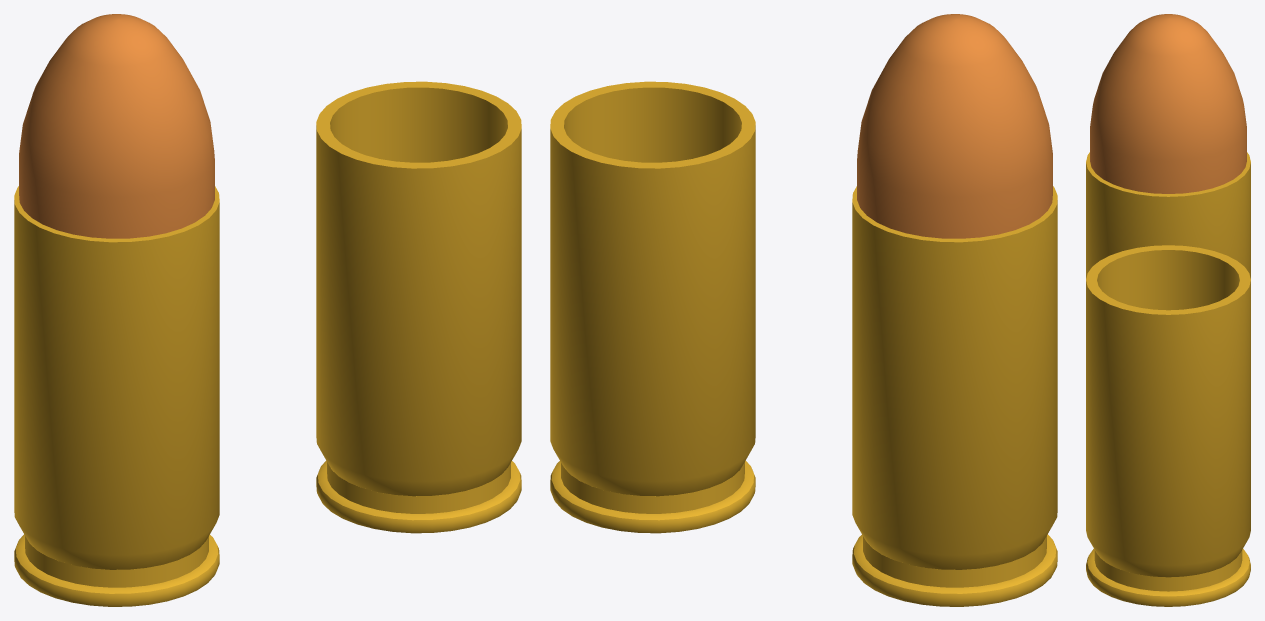
File: Bullet.fbx
3 renders of one model, left to right at view 1: azimuth 30°, elevation 25°; view 2: azimuth 150°, elevation 25°; view 3: azimuth 270°, elevation 25°, orthographic. The views are drawn at different scales.
Parts seen in each view (by area): view 1: Bullet, Case; view 2: Bullet, Case; view 3: Case, Bullet.
Part boxes in pixels (bbox=[...]): Bullet: bbox=[14, 14, 219, 606]; Case: bbox=[316, 81, 521, 533]; Bullet: bbox=[852, 14, 1057, 606]; Case: bbox=[550, 81, 755, 533]; Case: bbox=[1086, 245, 1250, 606]; Bullet: bbox=[1086, 14, 1250, 278].
Bounding box in the file's own units: 539 × 585 × 200.
